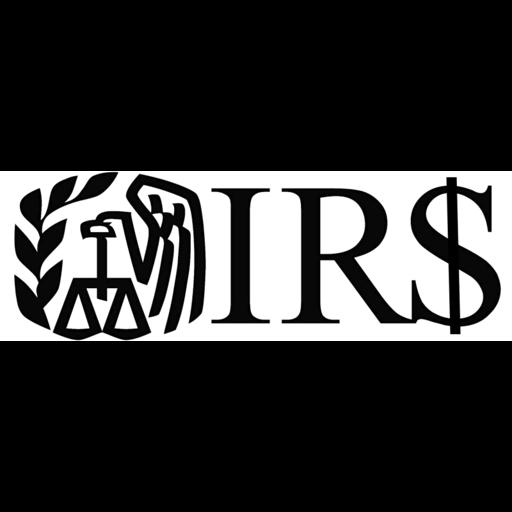IRS: (0, 171, 512, 341)
